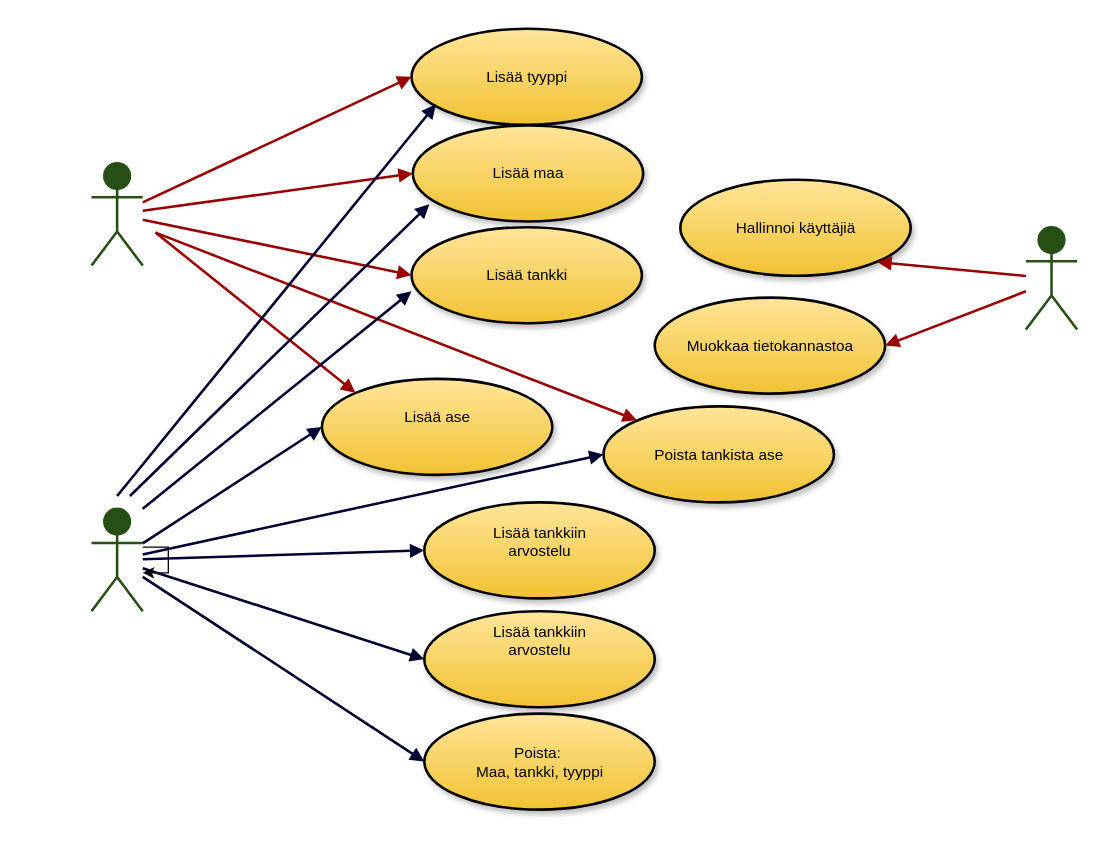
Some shapes in this 1114 by 841 pixel diagram are drawn without their labels. Each missing label, with the centre of its shape:
Admin: the point at 116,559
sisäänkirjautunut käyttäjä: the point at 116,213
ylläpito: the point at 1051,277
